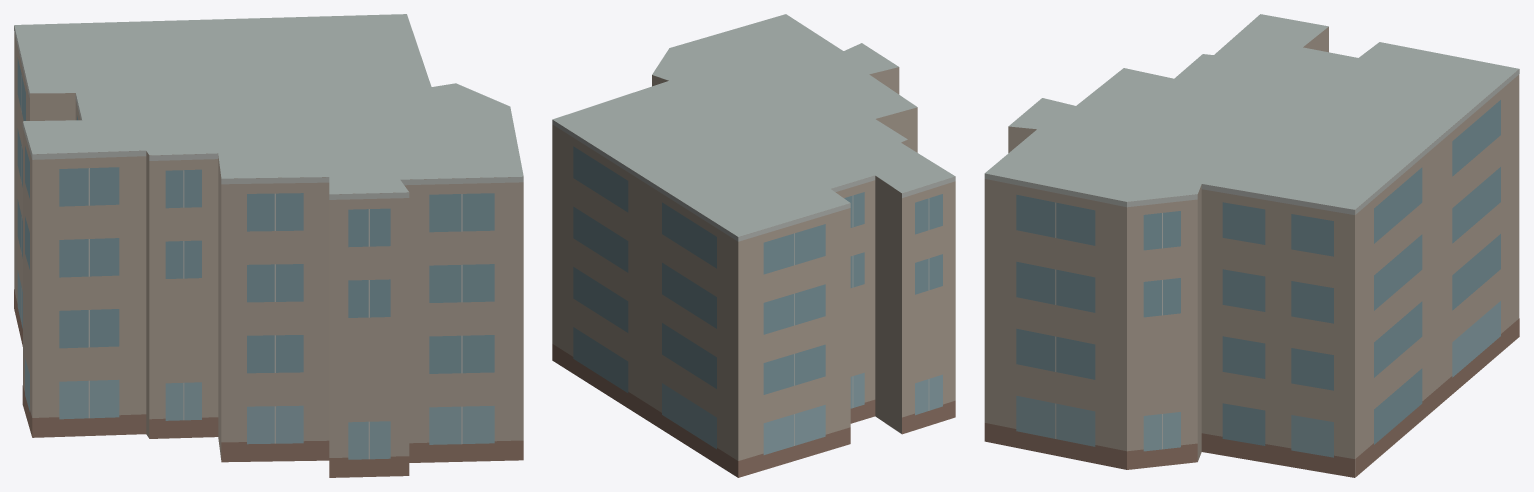
File: survey-upis-32461399.glb
3 views of the same model, side by side, from view 1: azimuth 30°, elevation 25°; view 2: azimuth 150°, elevation 25°; view 3: azimuth 270°, elevation 25° (orthographic). The views are drawn at different scales.
Visible parts, largest first — view 1: survey-upis-32461399.tmp; view 2: survey-upis-32461399.tmp; view 3: survey-upis-32461399.tmp.
Part boxes in pixels (x1,y1,x2,y2): survey-upis-32461399.tmp: (14, 14, 523, 477); survey-upis-32461399.tmp: (552, 14, 955, 477); survey-upis-32461399.tmp: (984, 14, 1519, 477).
Bounding box in the file's own units: 19.29 × 12.3 × 22.26.
